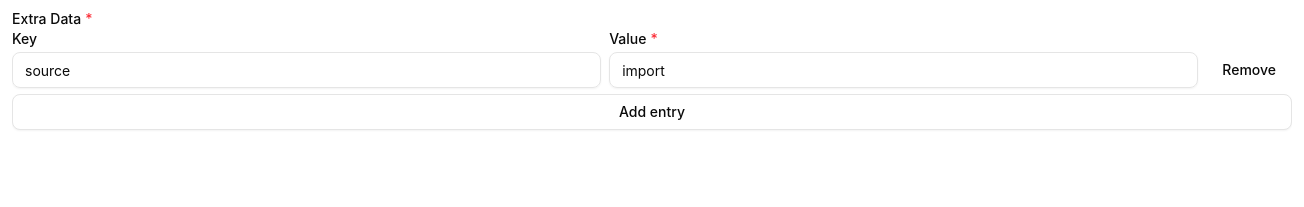
Test: auto-form component suite › AutoField › renders record field with default entries and supports edits
The image size is (1304, 207).
Expected: the field showing "source" is shown, left=12, top=52, right=601, bottom=88
Expected: the number of buttons "Remove" is 1, left=1206, top=52, right=1292, bottom=88
Step 1. Click the button "Add entry" → (652, 112), box left=12, top=94, right=1292, bottom=130
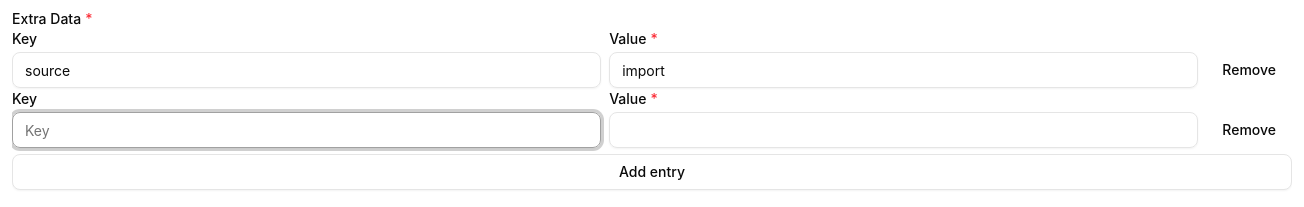
Expected: the number of buttons "Remove" is 2, left=1206, top=52, right=1292, bottom=88; left=1206, top=112, right=1292, bottom=148
Step 2. Replace the text in the 1st field with placeholder "Key" with "updated" → (307, 70), box left=12, top=52, right=601, bottom=88
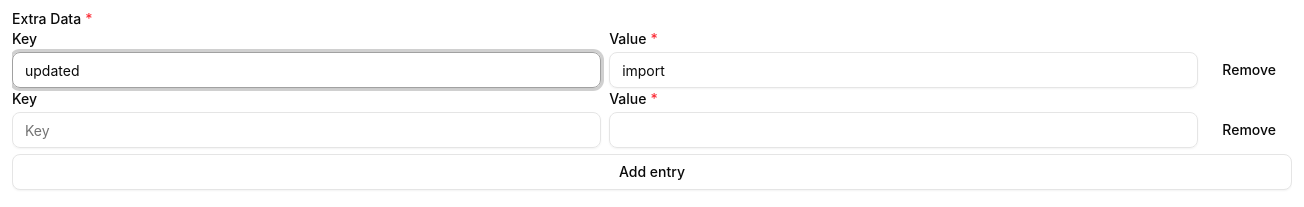
Step 3. Click the 1st button "Remove" → (1249, 70), box left=1206, top=52, right=1292, bottom=88
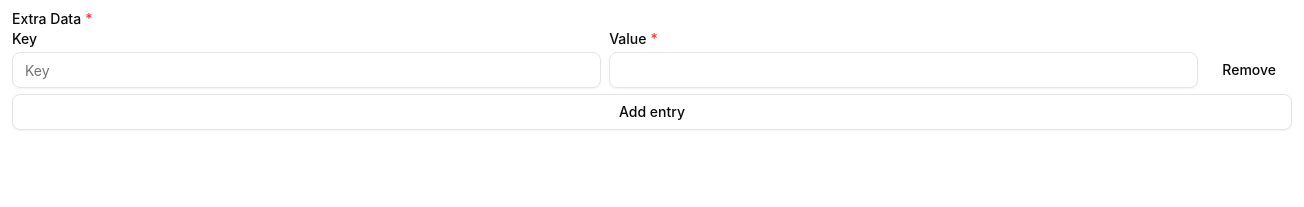
Expected: the number of buttons "Remove" is 1, left=1206, top=52, right=1292, bottom=88
